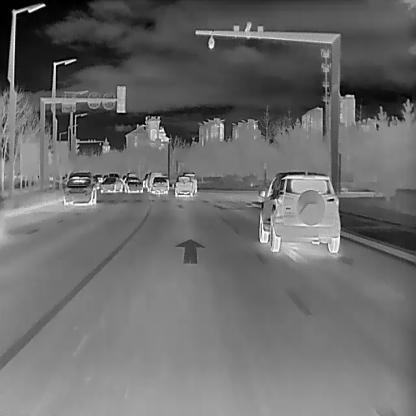car: (258, 170, 340, 252), (63, 171, 98, 207), (174, 174, 193, 196), (100, 176, 122, 192), (182, 172, 196, 194), (147, 171, 161, 192), (150, 176, 167, 193), (125, 177, 142, 192)
